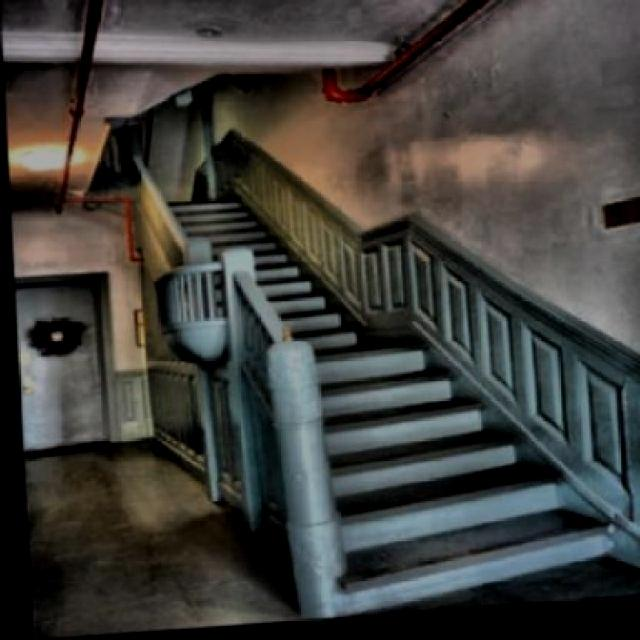stair: (132, 156, 608, 598)
